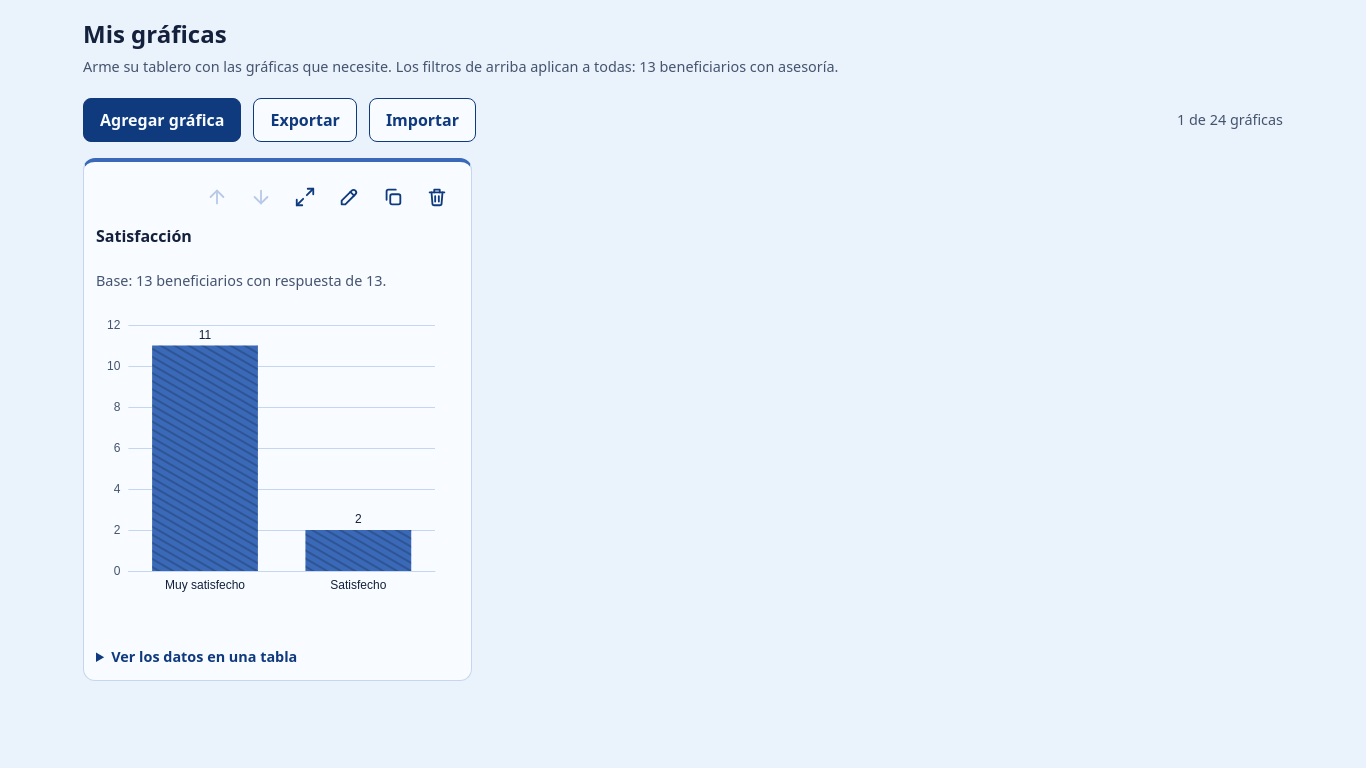
Test case: PaginaGraficas: una gráfica › el constructor no ocupa la pantalla: solo existe dentro del panel de edición
Expected: the field labelled "Tipo de gráfica" is not shown
Click the button named "Editar: Satisfacción" at (349, 196), box [327, 174, 371, 218]
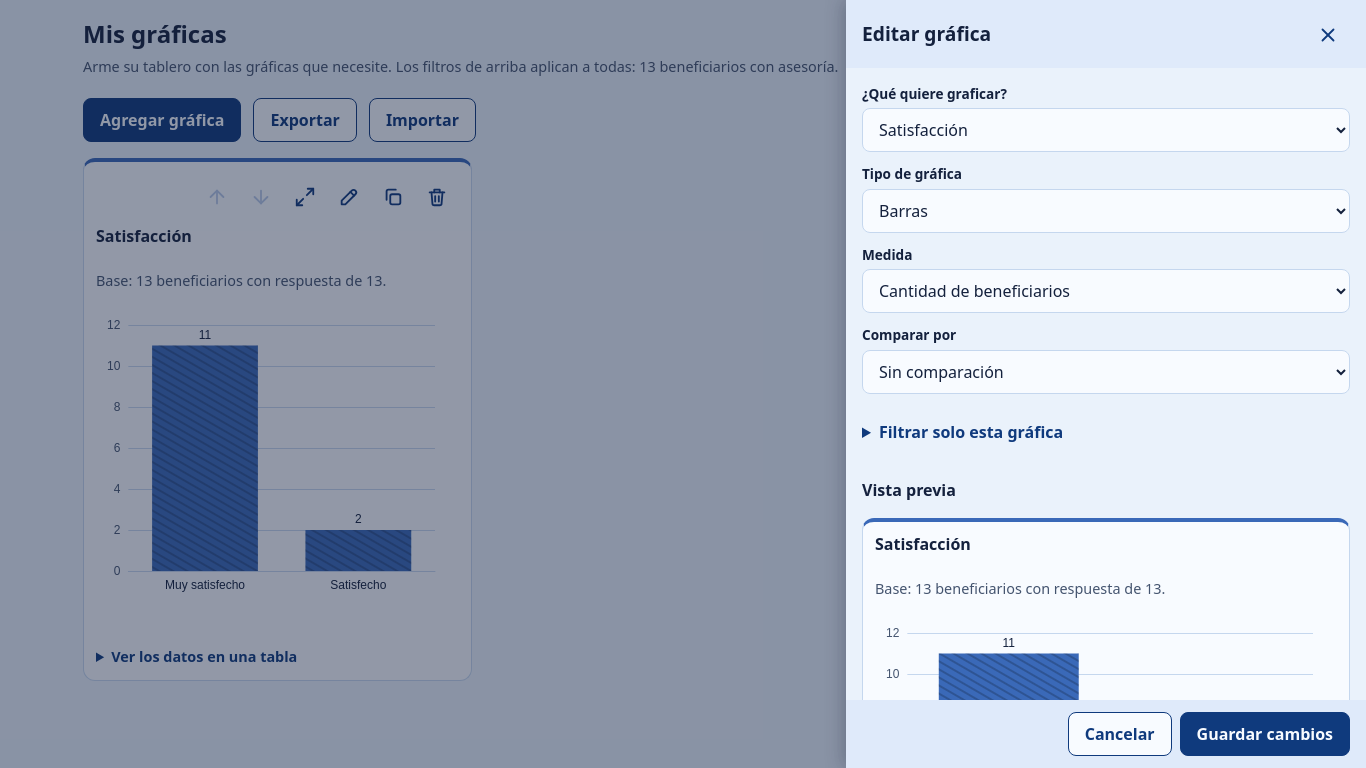
Expected: the dropdown labelled "Tipo de gráfica" is shown, [862, 189, 1350, 233]
